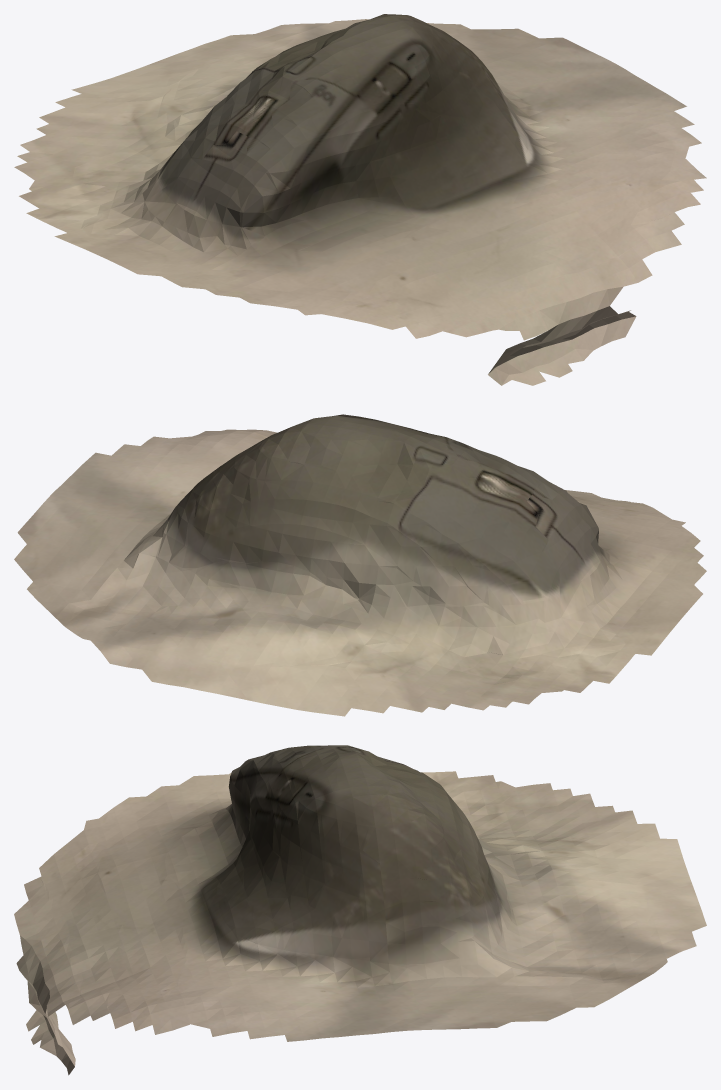
File: Mouse_21_50_03.fbx
The picture shows the model from 3 angles, top to bottom: view 1: azimuth 30°, elevation 25°; view 2: azimuth 150°, elevation 25°; view 3: azimuth 270°, elevation 25°; orthographic projection. The views are drawn at different scales.
Visible parts, largest first — view 1: Object; view 2: Object; view 3: Object.
Part boxes in pixels (x1,y1,x2,y2): Object: [14, 14, 706, 385]; Object: [14, 414, 706, 716]; Object: [14, 745, 706, 1075].
Size of the model in its own units: 20.07 by 7.81 by 19.65.
1 material, 1 textured.
